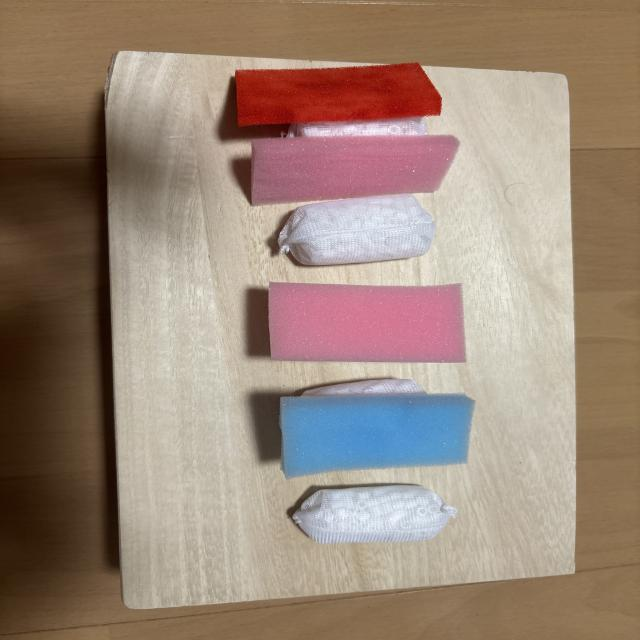NG: (252, 135, 459, 265), (236, 63, 441, 136), (293, 485, 457, 543)
ika: (280, 379, 475, 478)
tai: (269, 282, 466, 362)
